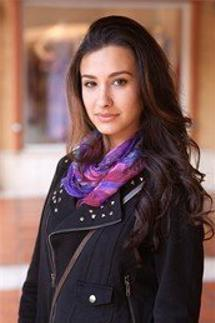Sober: (80, 54, 137, 131)
